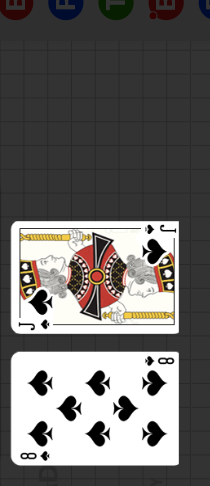8S: (142, 356, 175, 368)
JS: (130, 222, 177, 266), (10, 289, 56, 333)
